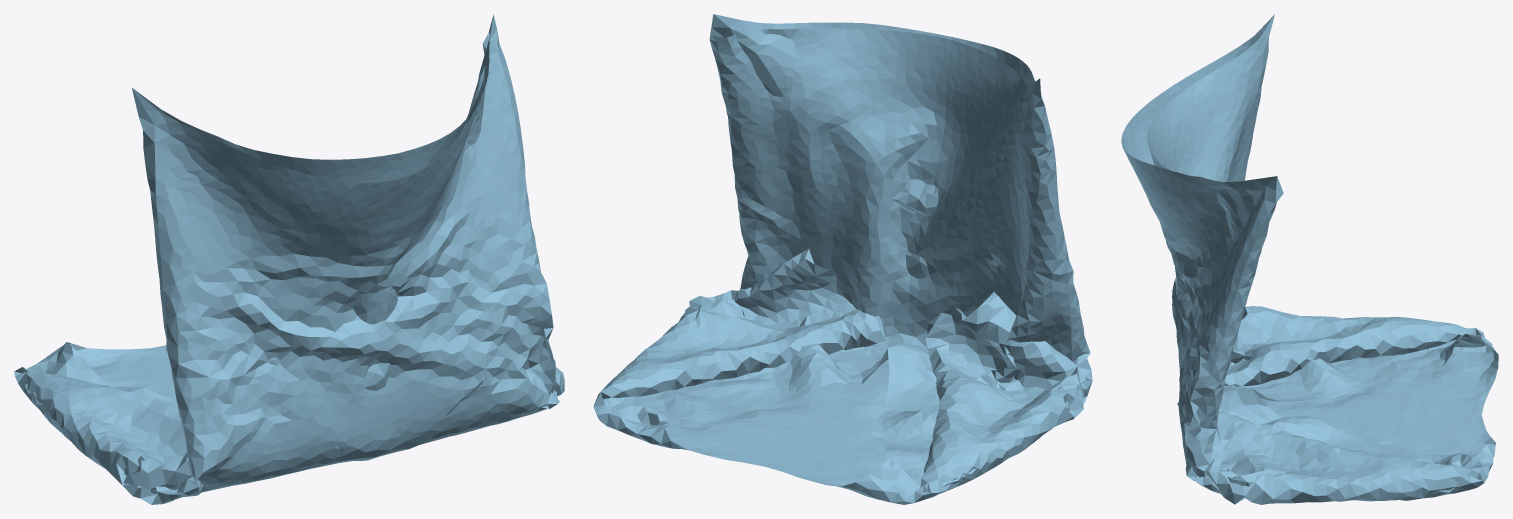
File: frame_12.glb
The picture shows the model from 3 angles, left to right: view 1: azimuth 30°, elevation 25°; view 2: azimuth 150°, elevation 25°; view 3: azimuth 270°, elevation 25°; orthographic projection. The views are drawn at different scales.
Parts seen in each view (by area): view 1: frame_12.obj; view 2: frame_12.obj; view 3: frame_12.obj.
Boxes of the visible parts, x1,y1,x2,y2 form: frame_12.obj: (14,14,564,504); frame_12.obj: (593,14,1092,504); frame_12.obj: (1121,14,1498,504).
Size of the model in its own units: 1.21 by 1.04 by 1.07.
